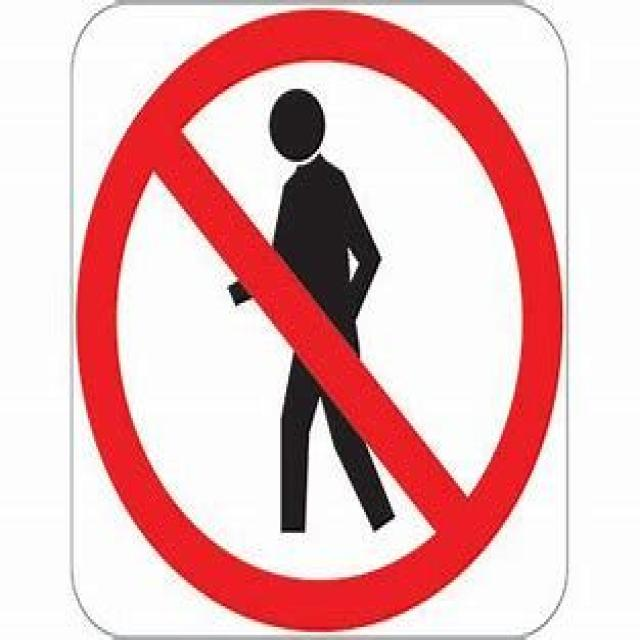PEDESTRIAN_PROHIBITED: (77, 10, 563, 632)
